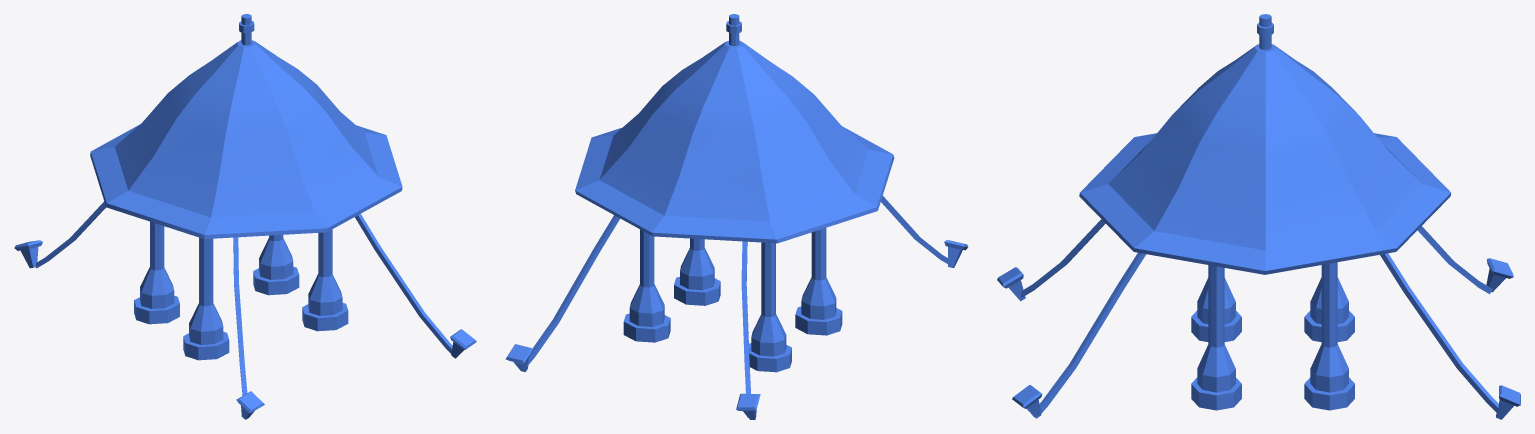
Rendered from Military_Tent_Variant2.fbx.
3 views of the same model, side by side, from view 1: azimuth 30°, elevation 25°; view 2: azimuth 150°, elevation 25°; view 3: azimuth 270°, elevation 25° (orthographic). The views are drawn at different scales.
Visible parts, largest first — view 1: Military_Tent_Variant2; view 2: Military_Tent_Variant2; view 3: Military_Tent_Variant2.
Part boxes in pixels (x1,y1,x2,y2): Military_Tent_Variant2: (14, 14, 476, 419); Military_Tent_Variant2: (505, 14, 968, 419); Military_Tent_Variant2: (997, 14, 1520, 419).
Size of the model in its own units: 373 by 387 by 525.
